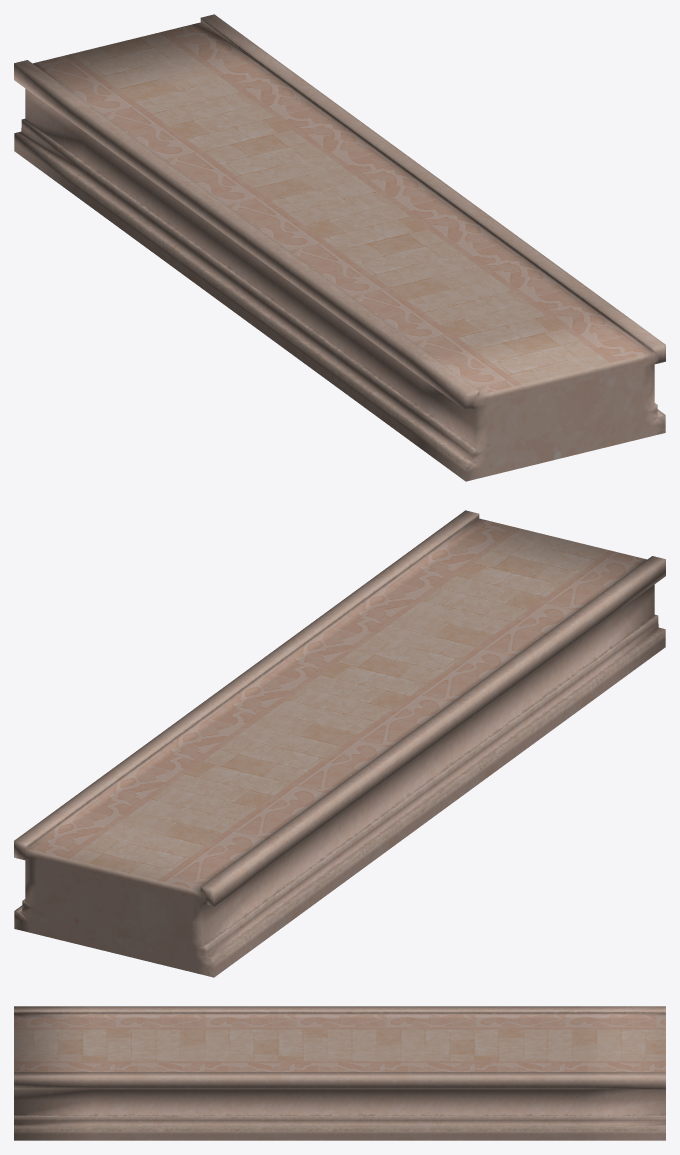
Rendered from 基础路段.fbx.
3 renders of one model, top to bottom at view 1: azimuth 30°, elevation 25°; view 2: azimuth 150°, elevation 25°; view 3: azimuth 270°, elevation 25°, orthographic. The views are drawn at different scales.
Parts seen in each view (by area): view 1: 平面.020; view 2: 平面.020; view 3: 平面.020.
Part boxes in pixels (x1,y1,x2,y2): 平面.020: [14, 14, 665, 481]; 平面.020: [14, 510, 665, 977]; 平面.020: [14, 1006, 665, 1140].
Size of the model in its own units: 310 by 130 by 1210.
